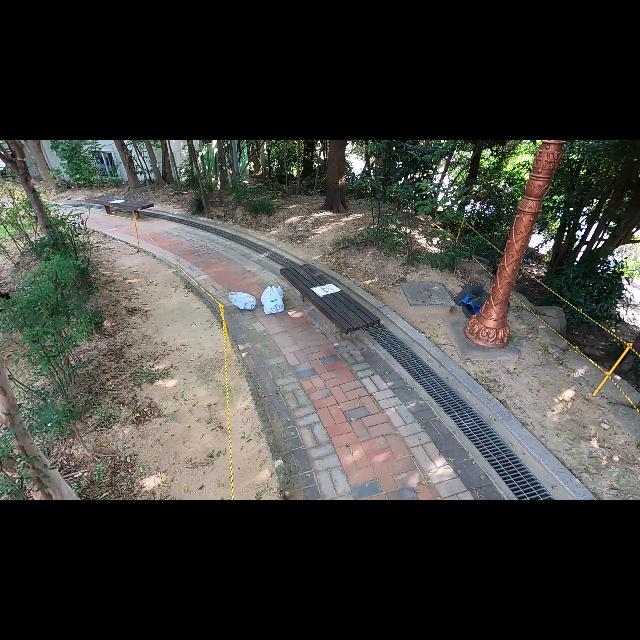trash: (452, 284, 512, 320), (228, 290, 258, 312), (264, 284, 284, 316), (260, 286, 284, 304)
